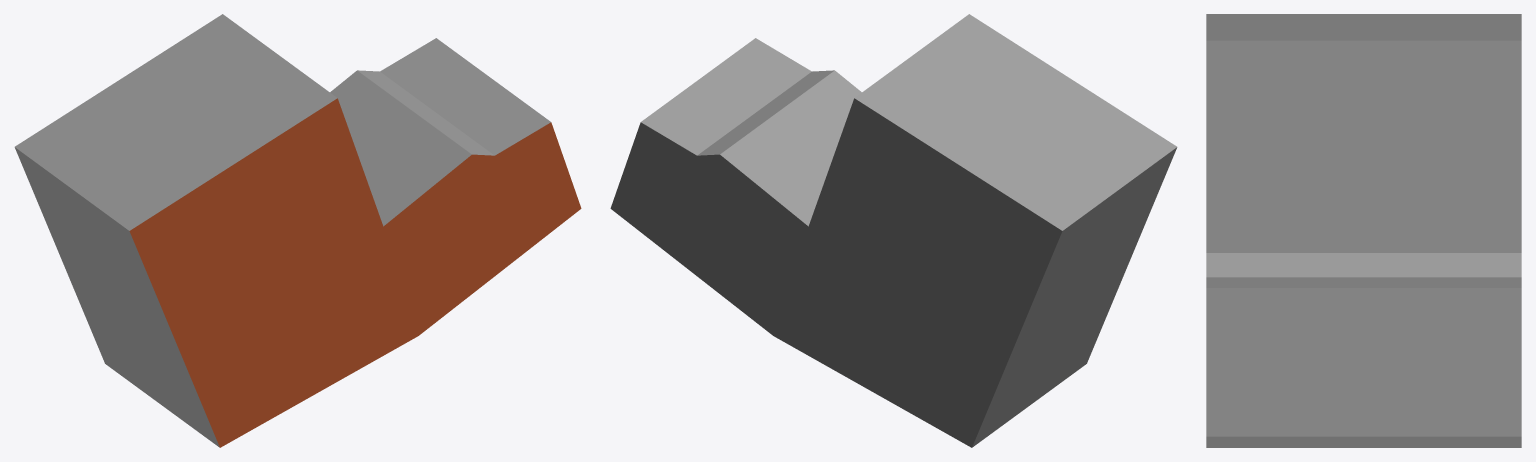
The model's file is construction_6142_assumed_A_Casa_h6m.obj.
3 renders of one model, left to right at view 1: azimuth 30°, elevation 25°; view 2: azimuth 150°, elevation 25°; view 3: azimuth 270°, elevation 25°, orthographic. The views are drawn at different scales.
Parts seen in each view (by area): view 1: construction_6142_assumed_A_Casa; view 2: construction_6142_assumed_A_Casa; view 3: construction_6142_assumed_A_Casa.
Boxes of the visible parts, x1,y1,x2,y2 form: construction_6142_assumed_A_Casa: (14,14,581,447); construction_6142_assumed_A_Casa: (610,14,1177,447); construction_6142_assumed_A_Casa: (1206,14,1521,447).
Bounding box in the file's own units: 13.62 × 9.24 × 6.
